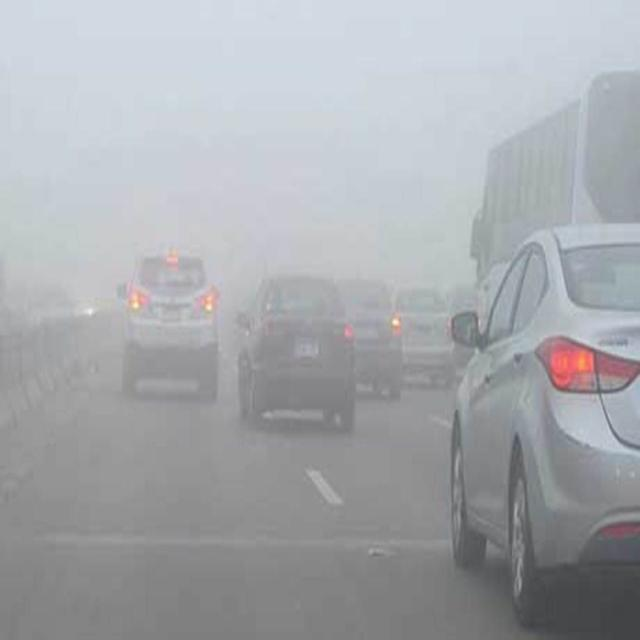car: (442, 226, 638, 631), (236, 272, 360, 432), (118, 250, 220, 398), (338, 276, 404, 402), (392, 287, 451, 387), (450, 276, 476, 382)
truck: (470, 66, 638, 340)
